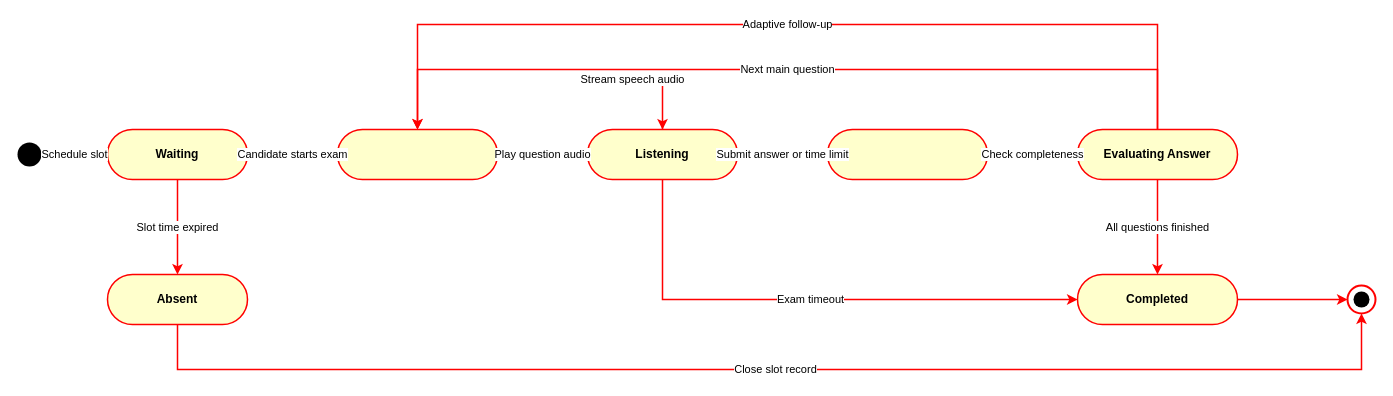
Some shapes in this 1393 by 396 pixel diagram are drawn without their labels. The centre of each missing label's shape, as x and y in pixels:
Asking Question: point 417,154
Processing Answer: point 907,154
